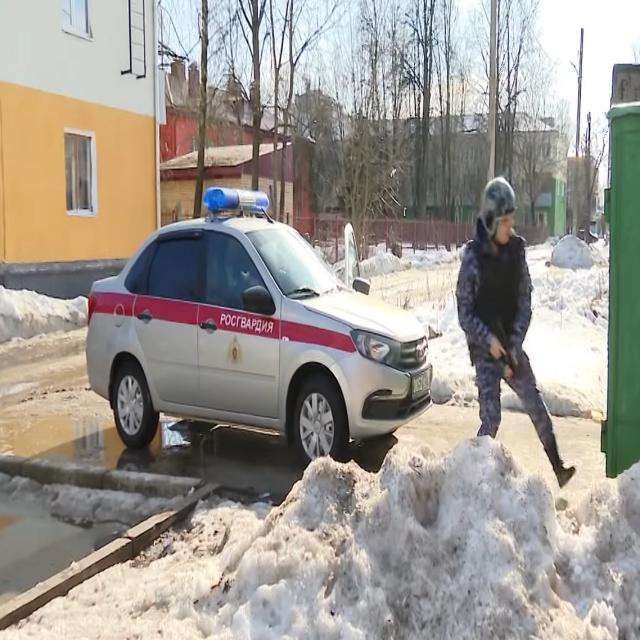police car: (88, 187, 435, 470)
